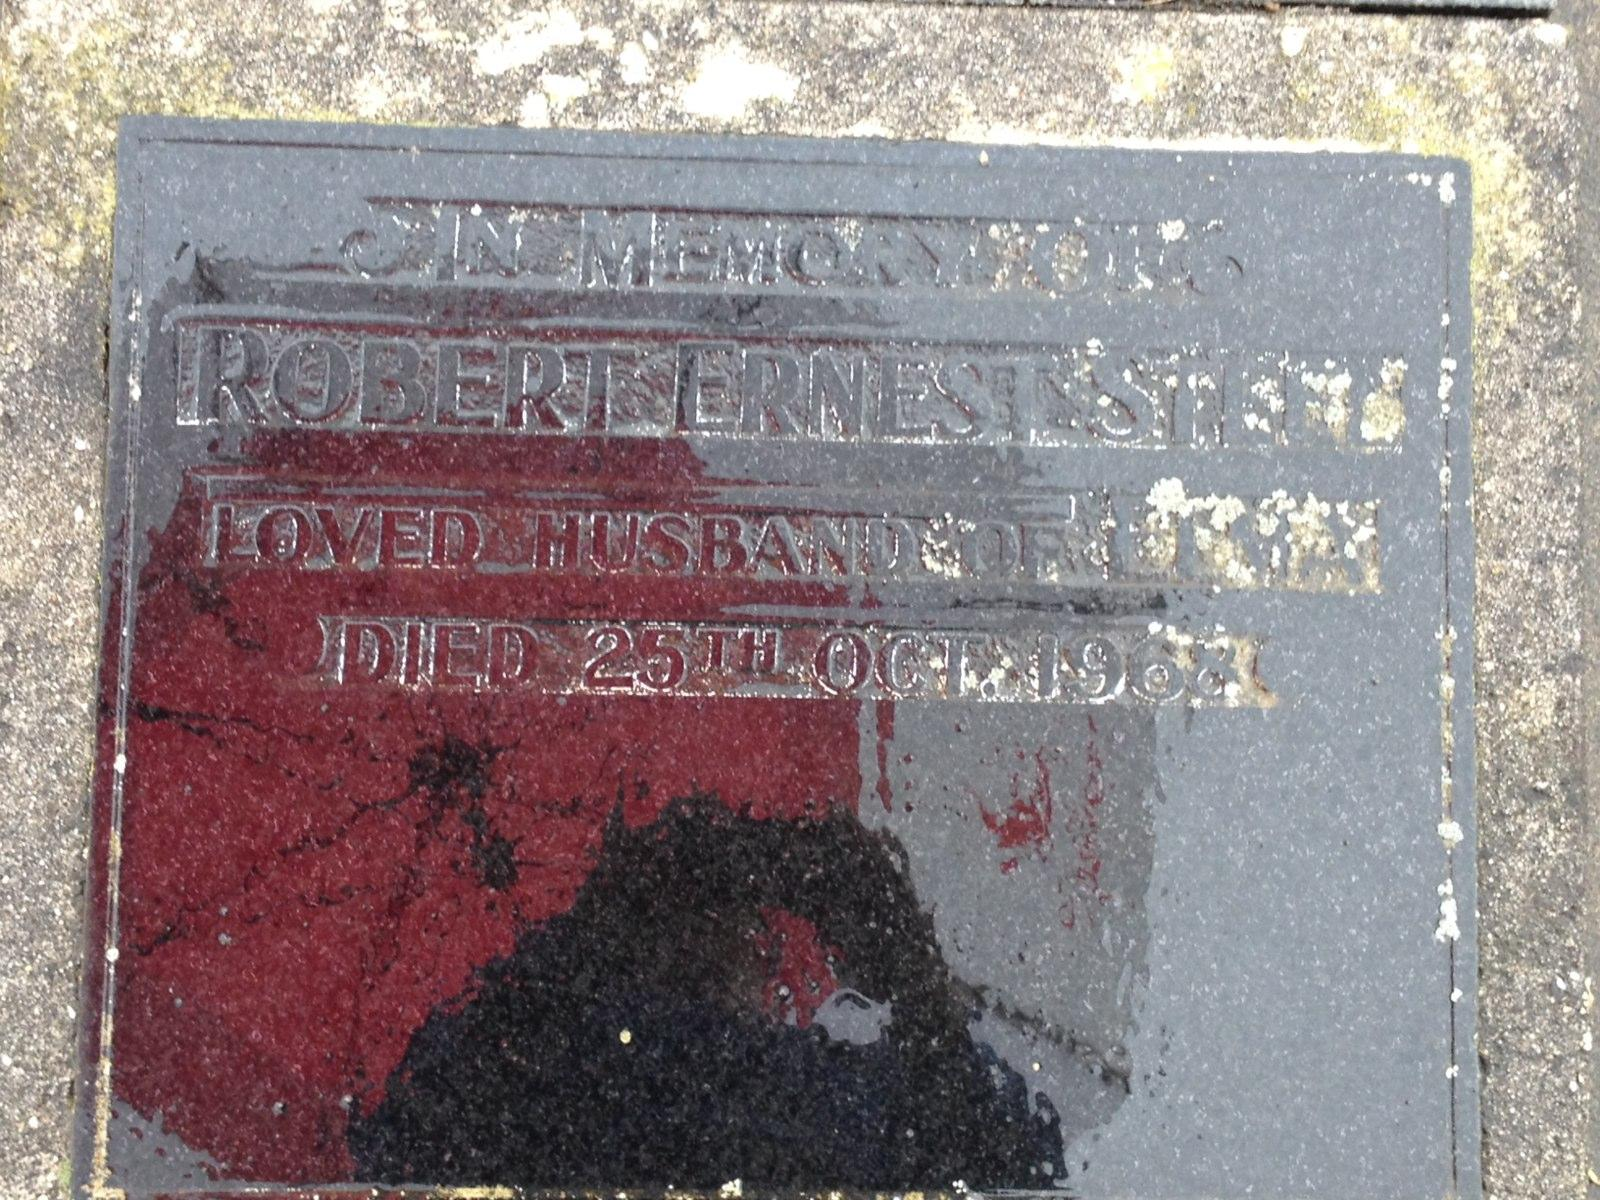flat: (0, 13, 1600, 1192)
